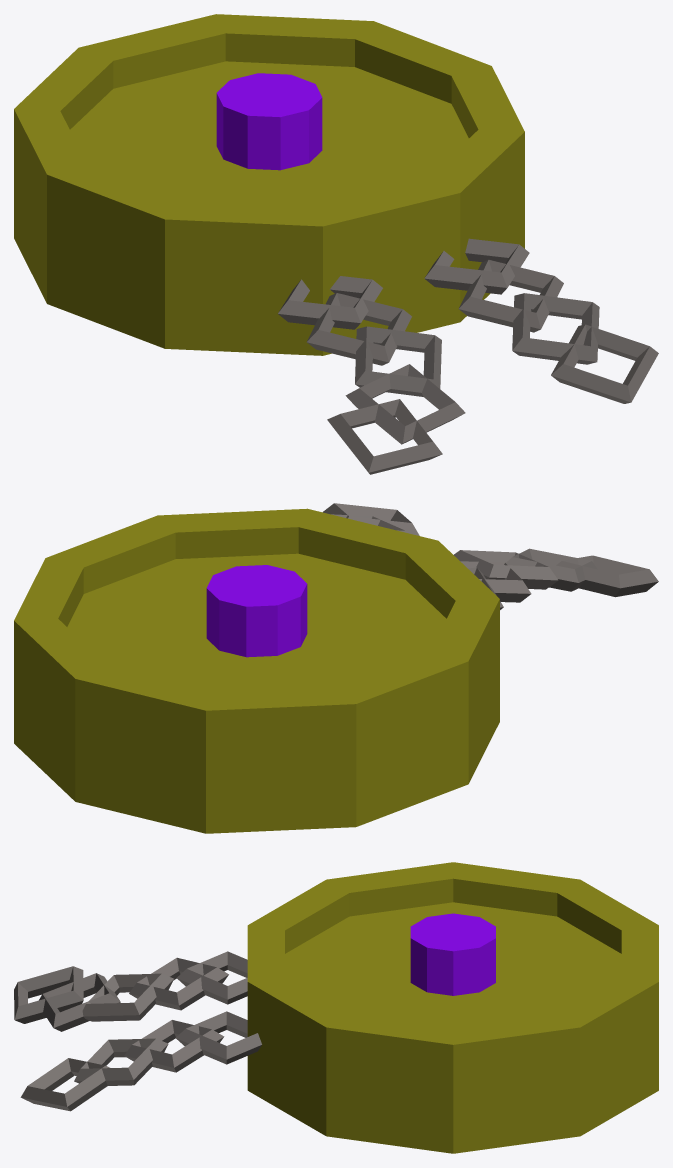
Rendered from talisman.glb.
3 views of the same model, one above another, from view 1: azimuth 30°, elevation 25°; view 2: azimuth 150°, elevation 25°; view 3: azimuth 270°, elevation 25° (orthographic). The views are drawn at different scales.
Visible parts, largest first — view 1: Body, Chain, Gem; view 2: Body, Chain, Gem; view 3: Body, Chain, Gem.
Boxes of the visible parts, <box> form: Body: <box>14,14,524,355</box>; Chain: <box>278,238,658,474</box>; Gem: <box>216,73,322,170</box>; Body: <box>14,508,499,833</box>; Chain: <box>323,503,658,609</box>; Gem: <box>206,565,307,657</box>; Body: <box>247,862,658,1153</box>; Chain: <box>14,951,261,1111</box>; Gem: <box>410,913,495,995</box>.
Bounding box in the file's own units: 2 × 0.6672 × 2.98.
